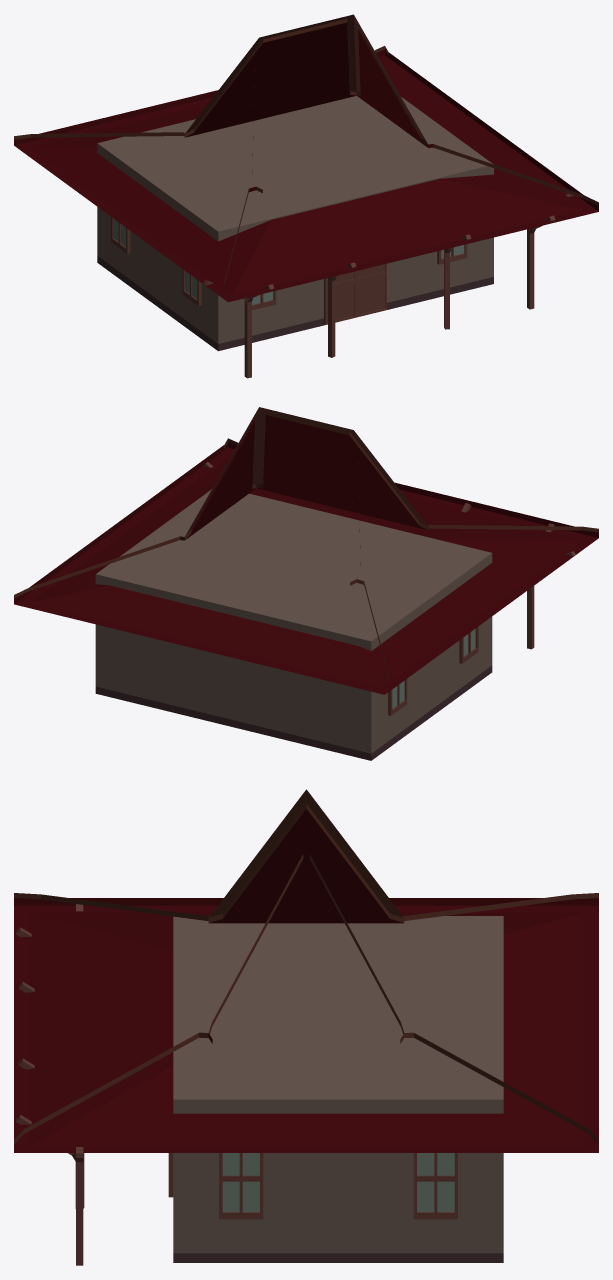
Rendered from house_joglo.glb.
The picture shows the model from 3 angles, top to bottom: view 1: azimuth 30°, elevation 25°; view 2: azimuth 150°, elevation 25°; view 3: azimuth 270°, elevation 25°; orthographic projection. The views are drawn at different scales.
Visible parts, largest first — view 1: ModelHouse, WindowGlass; view 2: ModelHouse; view 3: ModelHouse, WindowGlass.
Boxes of the visible parts, bbox=[...] form: ModelHouse: bbox=[14, 14, 598, 378]; WindowGlass: bbox=[113, 219, 464, 304]; ModelHouse: bbox=[14, 407, 598, 760]; ModelHouse: bbox=[14, 789, 598, 1265]; WindowGlass: bbox=[222, 1153, 454, 1211].
Bounding box in the file's own units: 12 × 7.92 × 12.
